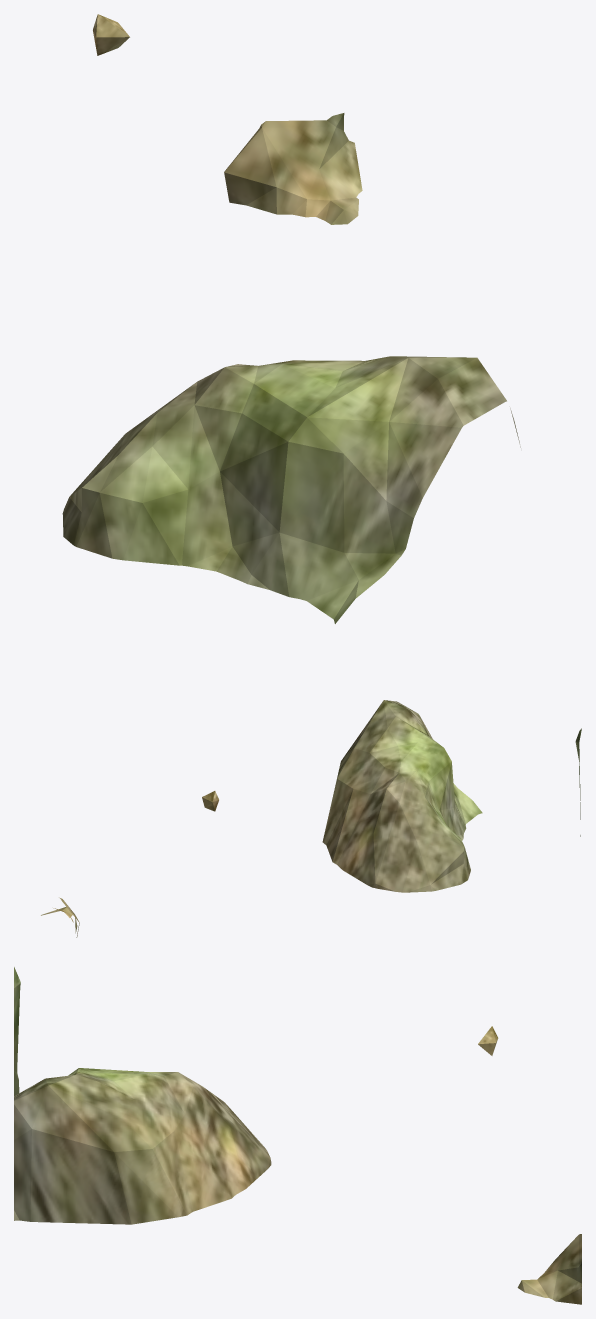
3 views of the same model, one above another, from view 1: azimuth 30°, elevation 25°; view 2: azimuth 150°, elevation 25°; view 3: azimuth 270°, elevation 25° (orthographic). The views are drawn at different scales.
Size of the model in its own units: 2.51 by 1.03 by 2.95.
Materials: 1 (1 with a texture image).
